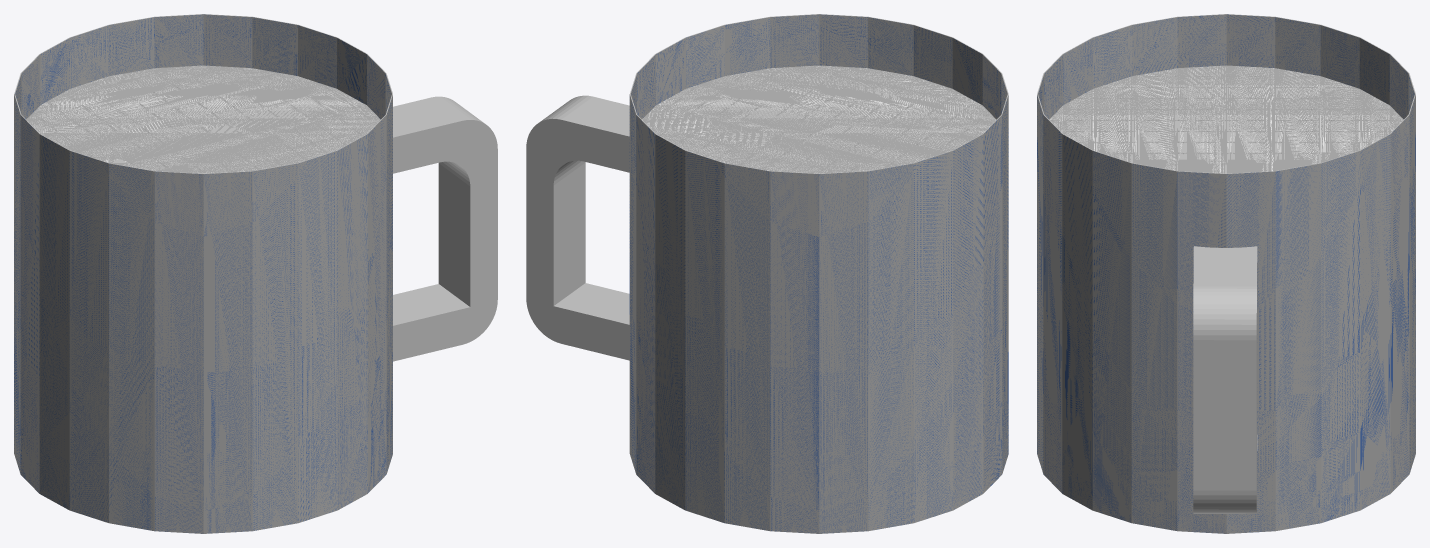
The picture shows the model from 3 angles, left to right: view 1: azimuth 30°, elevation 25°; view 2: azimuth 150°, elevation 25°; view 3: azimuth 270°, elevation 25°; orthographic projection.
Visible parts, largest first — view 1: mesh1_mesh1-geometry, mesh2_mesh2-geometry; view 2: mesh1_mesh1-geometry, mesh2_mesh2-geometry; view 3: mesh1_mesh1-geometry, mesh2_mesh2-geometry.
Part boxes in pixels (x1,y1,x2,y2): mesh1_mesh1-geometry: (14, 14, 392, 533); mesh2_mesh2-geometry: (393, 96, 497, 361); mesh1_mesh1-geometry: (629, 14, 1008, 533); mesh2_mesh2-geometry: (526, 95, 629, 360); mesh1_mesh1-geometry: (1037, 14, 1415, 533); mesh2_mesh2-geometry: (1193, 246, 1257, 513).
Size of the model in its own units: 0.6809 by 0.5298 by 0.5056.
